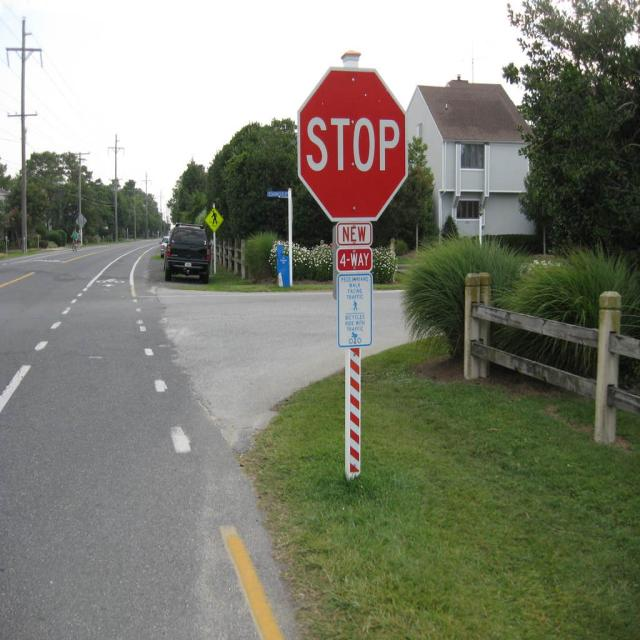Stop-sign: (296, 63, 408, 221)
